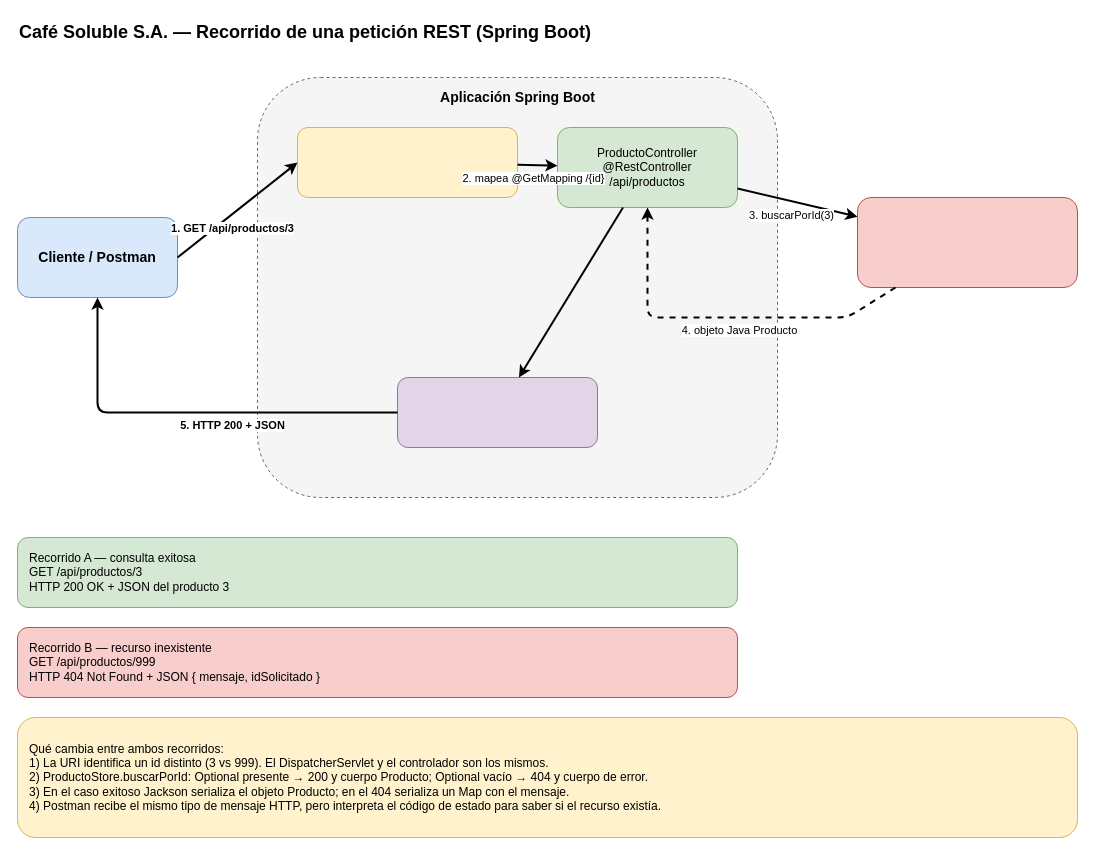
This 1095x855 diagram has some shape labels left out. Here are the shapes that lost their labels. From the top down, the centre of each, then its label:
At point 407,162: "DispatcherServlet enruta según método HTTP + URI".
At point 967,242: "Productos en memoria ProductoStore (ConcurrentHashMap, sin BD)".
At point 497,412: "Jackson Producto ⇄ JSON".
